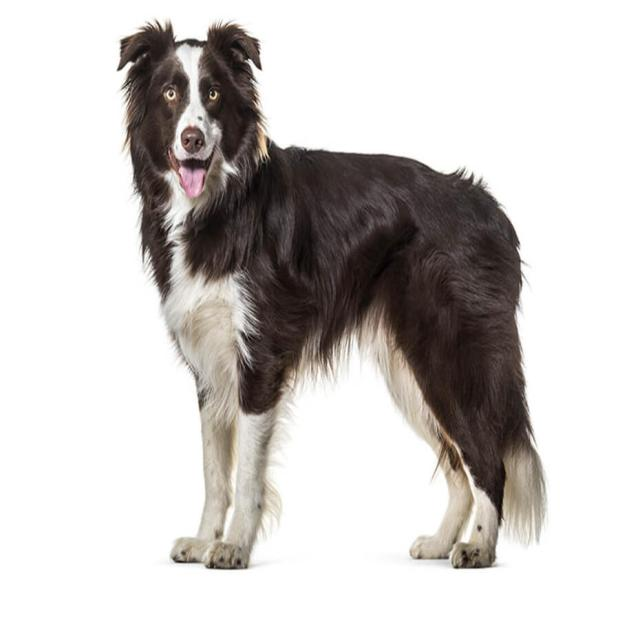BORDER_COLLIE: (115, 2, 553, 580)
